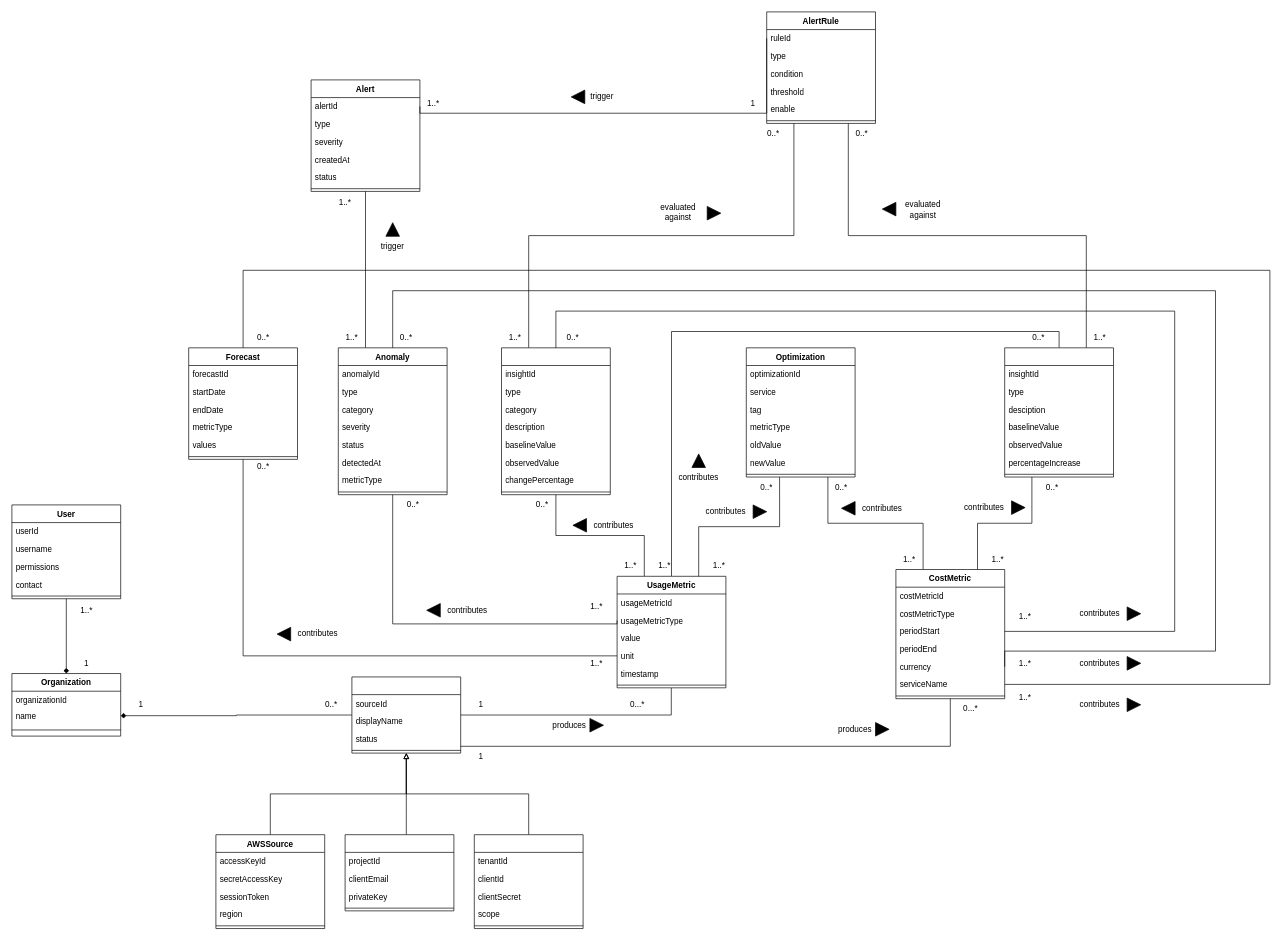
Image size: 1282x940. Some labels were removed from this diagram. Each missing label, with the box of its shape:
AzureSource: (474, 834, 583, 929)
CloudSource: (351, 676, 461, 753)
CostAnalyticInsight: (1004, 347, 1114, 477)
GCPSource: (344, 834, 454, 911)
UsageAnalyticsInsight: (501, 347, 610, 495)
